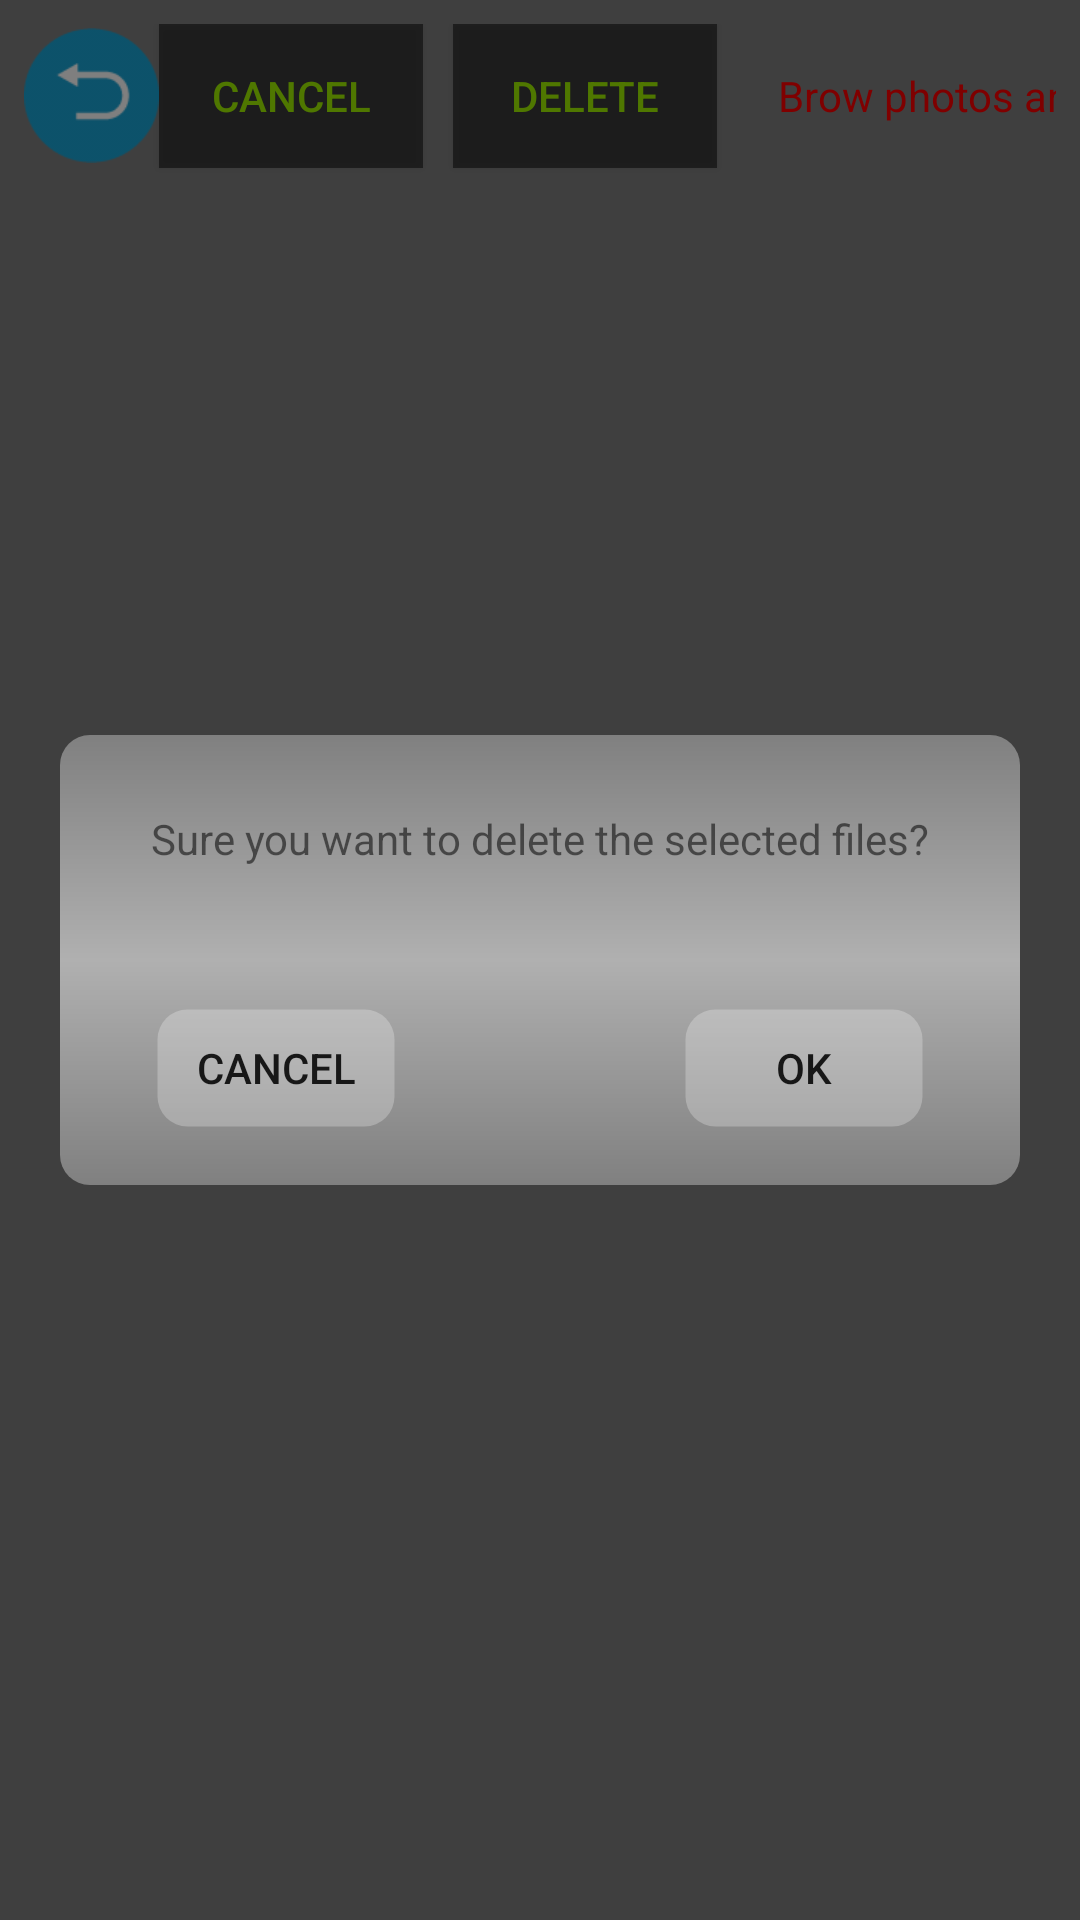

Named icons in this screenshot (1080x1920) and their centers, point (x, y):
back: point (91, 95)
